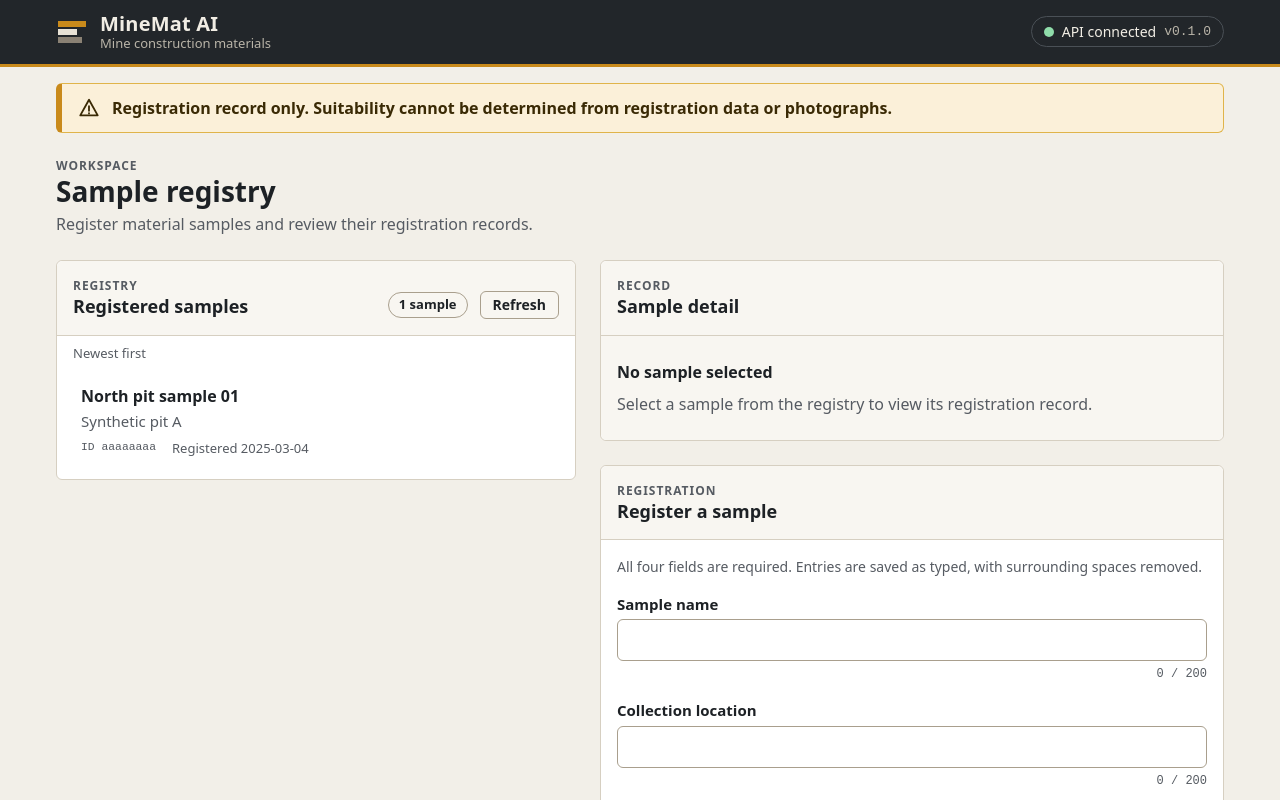
it: sample detail › labels the registration time as UTC and renders it in UTC
Click the button "North pit sample 01" at (160, 396), box [65,371,567,471]
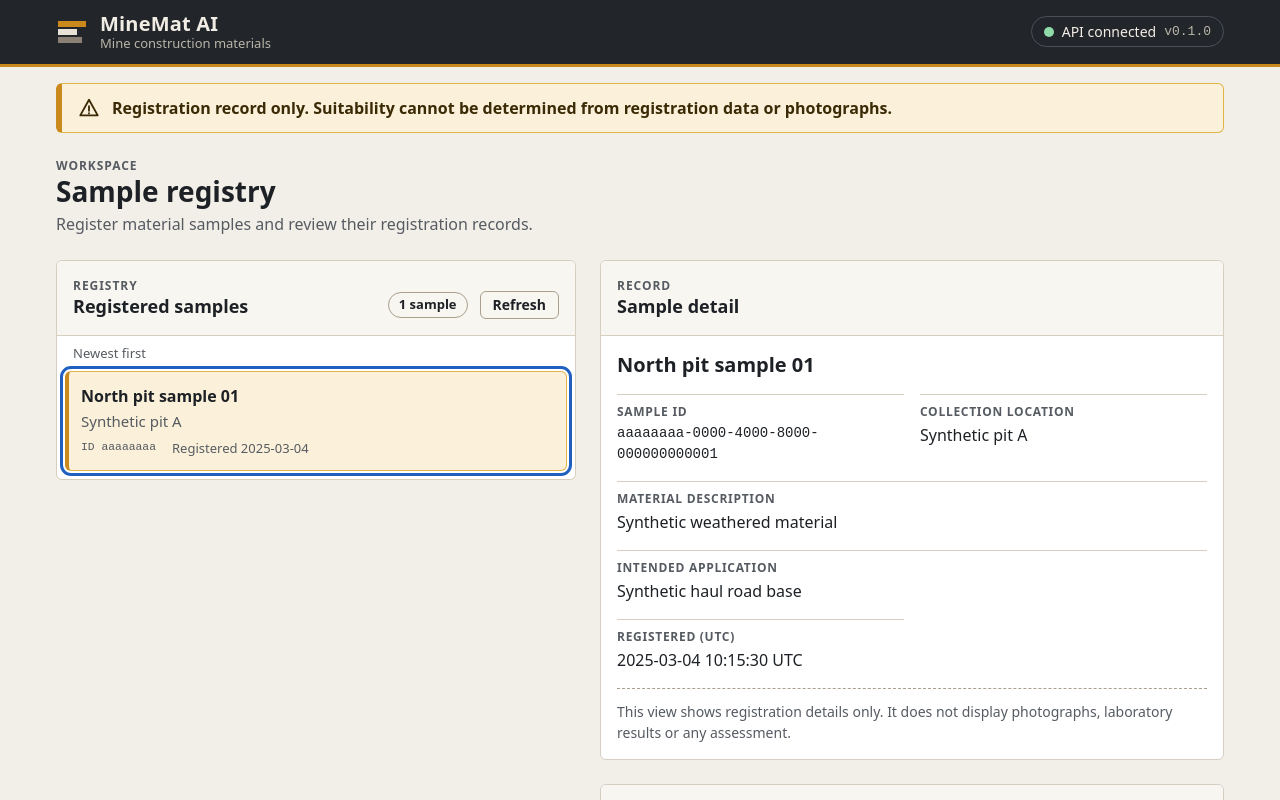
Expected: the text "Registered (UTC)" is shown, [617,628,735,645]
